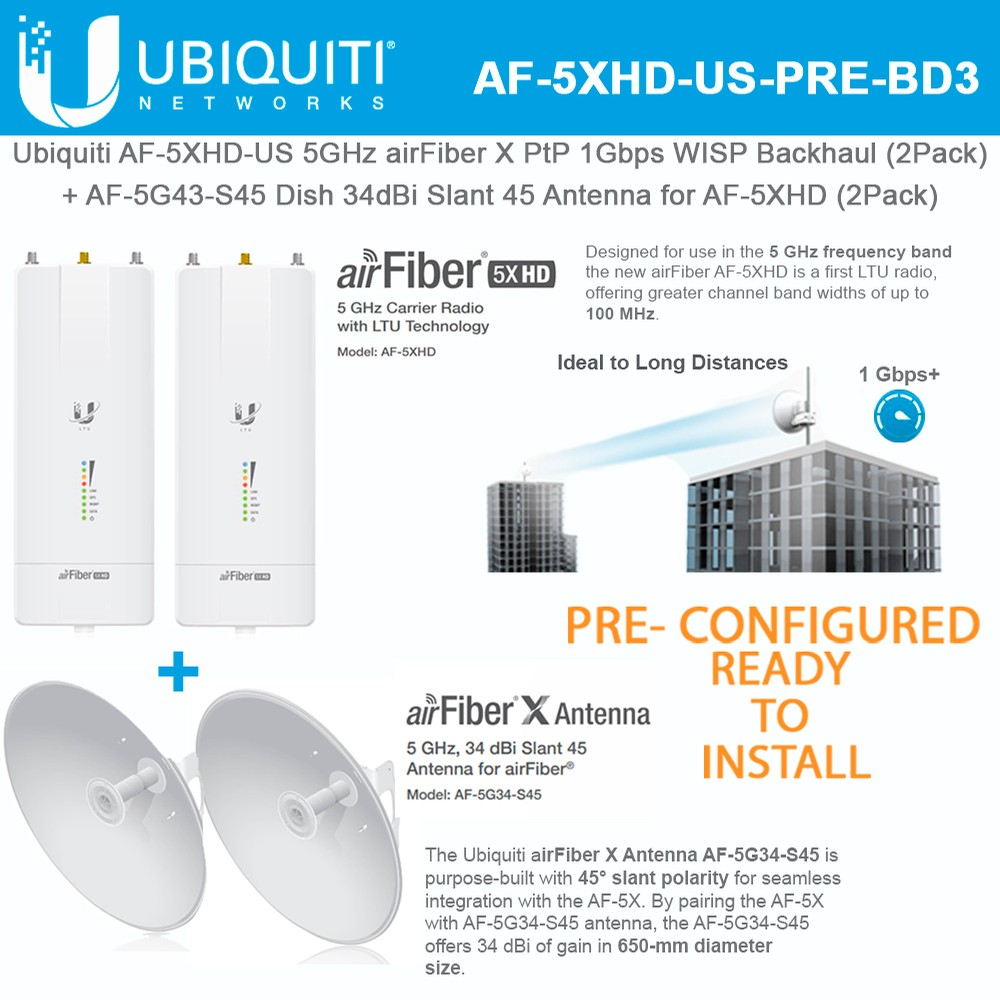ba: (8, 653, 221, 961)
